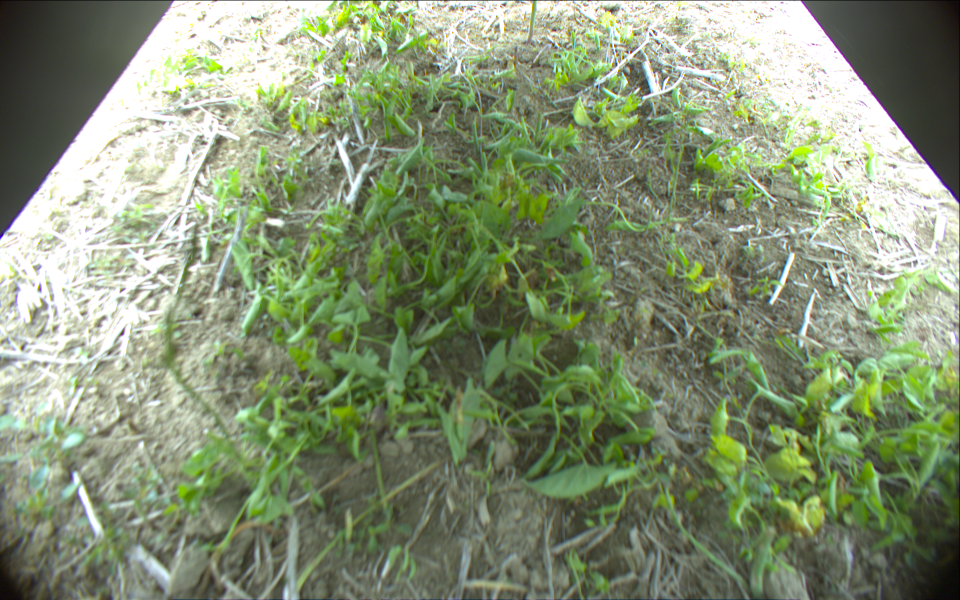aspa: (525, 1, 538, 42)
